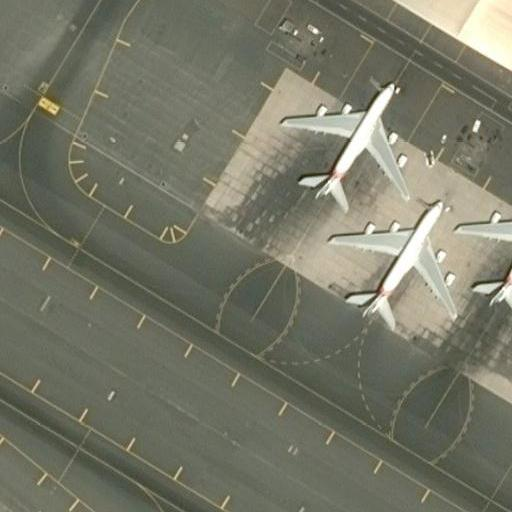Aircraft: (331, 189, 464, 332), (280, 73, 417, 206), (454, 192, 512, 314)
